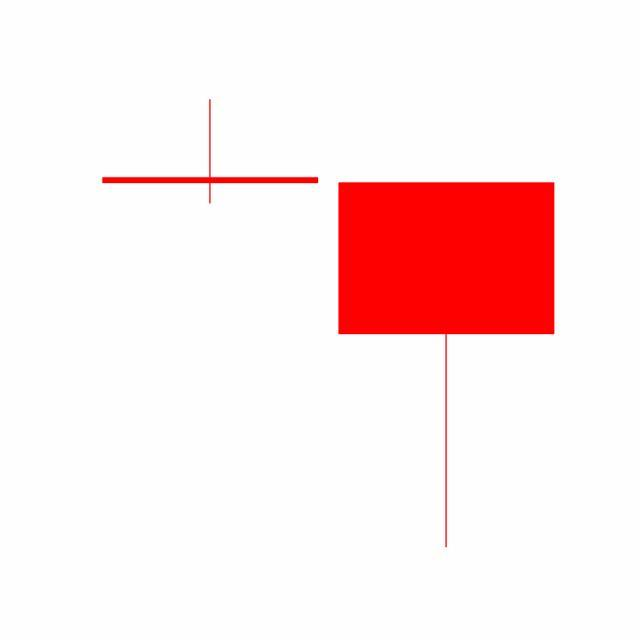Hammer: (328, 179, 566, 552)
